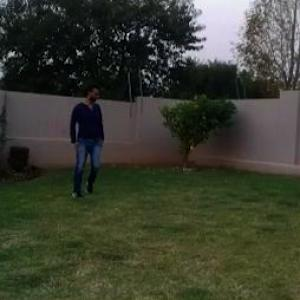follow: (68, 80, 106, 202)
